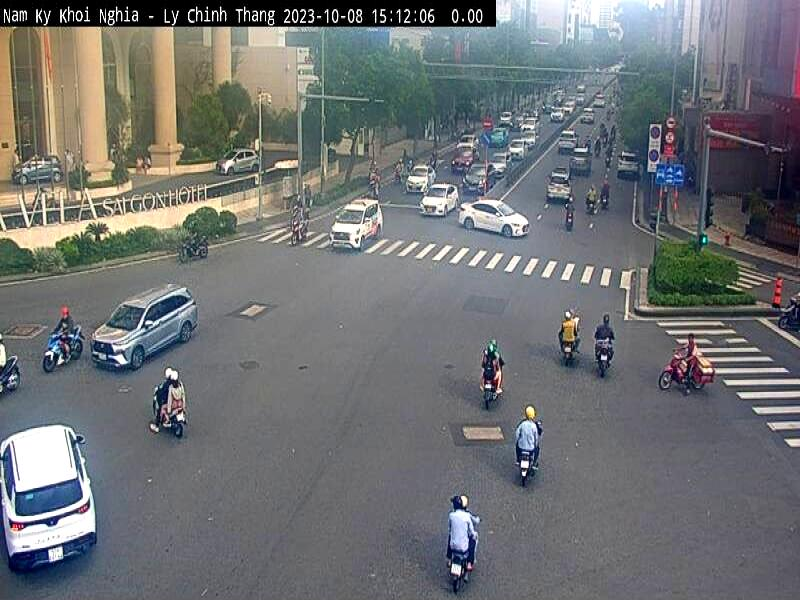car: (0, 423, 98, 577), (93, 278, 199, 372), (460, 199, 534, 238), (333, 202, 383, 252), (12, 150, 66, 186), (418, 182, 457, 220), (214, 145, 262, 175), (406, 164, 437, 194)
motorcycle: (148, 382, 188, 440), (43, 324, 86, 376), (660, 351, 692, 397), (510, 449, 539, 491), (446, 552, 473, 596), (0, 357, 23, 395), (479, 371, 497, 410), (593, 344, 613, 377), (560, 337, 577, 366)
